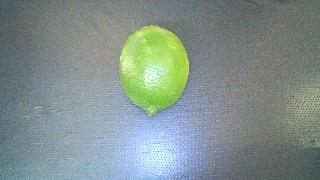EXPORTACION: (119, 26, 189, 116)
